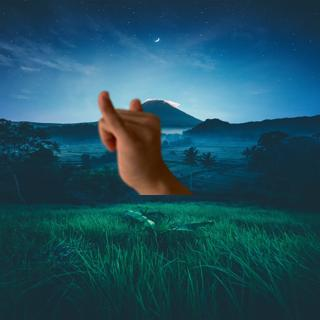HAVE: (87, 82, 176, 190)
